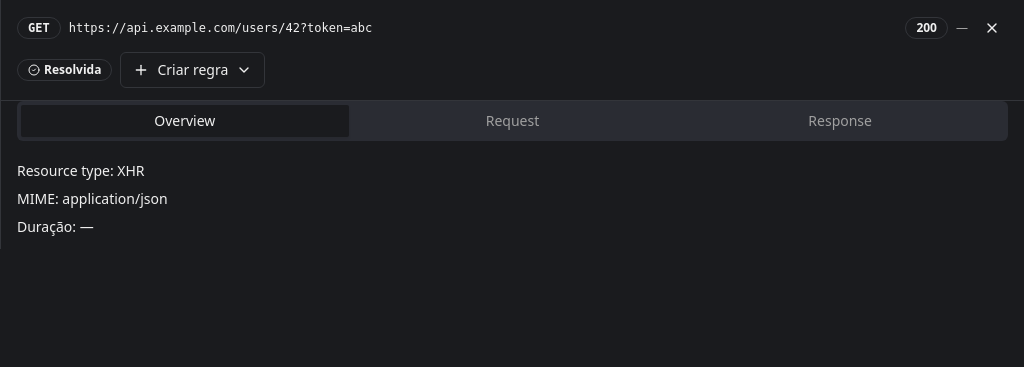
RequestInspector › aba Request mostra headers e body unidos
The width and height of the screenshot is (1024, 367).
Press the mouse on the tab "Request" at (513, 121), box [349,105,676,137]
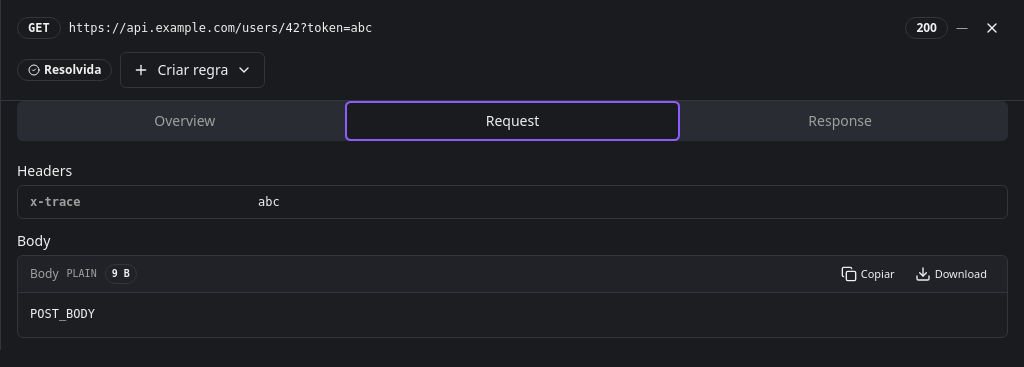
Expected: the text "x-trace" is shown, [30,195,81,209]
Expected: the text "POST_BODY" is shown, [30,307,95,321]
